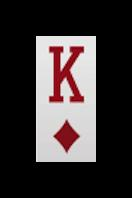KD: (42, 43, 90, 157)
